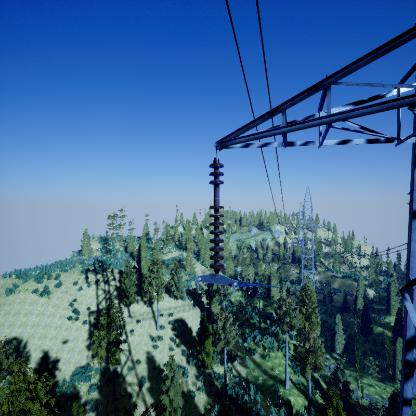insulator: (208, 160, 227, 273)
